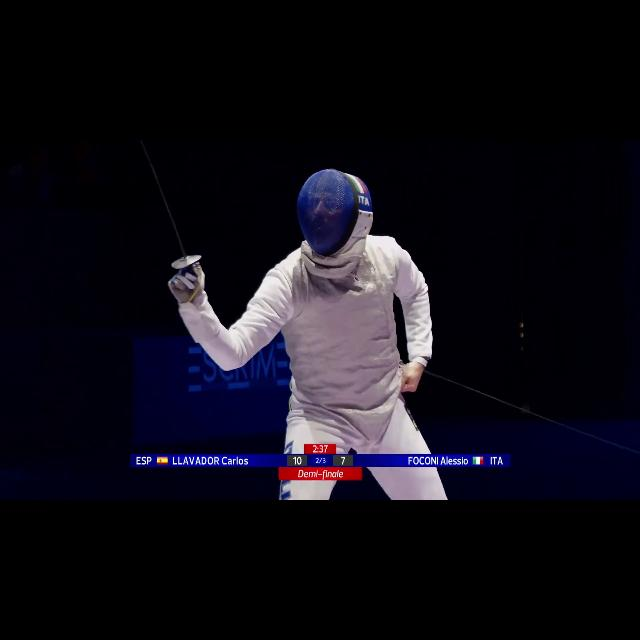blade: (128, 142, 210, 274)
